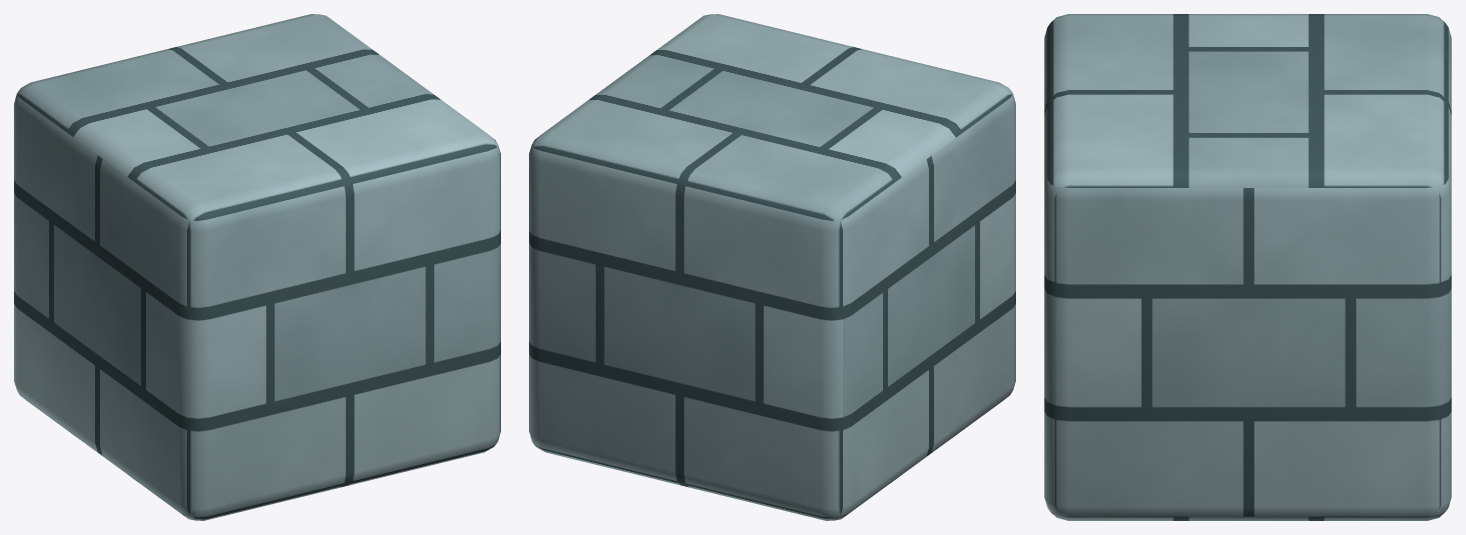
The model's file is border.glb.
3 views of the same model, side by side, from view 1: azimuth 30°, elevation 25°; view 2: azimuth 150°, elevation 25°; view 3: azimuth 270°, elevation 25° (orthographic). The views are drawn at different scales.
Visible parts, largest first — view 1: border; view 2: border; view 3: border.
Boxes of the visible parts, <box> form: border: <box>14,14,500,520</box>; border: <box>529,14,1015,520</box>; border: <box>1044,14,1451,520</box>.
Bounding box in the file's own units: 1 × 0.95 × 1.
1 material, 1 textured.
